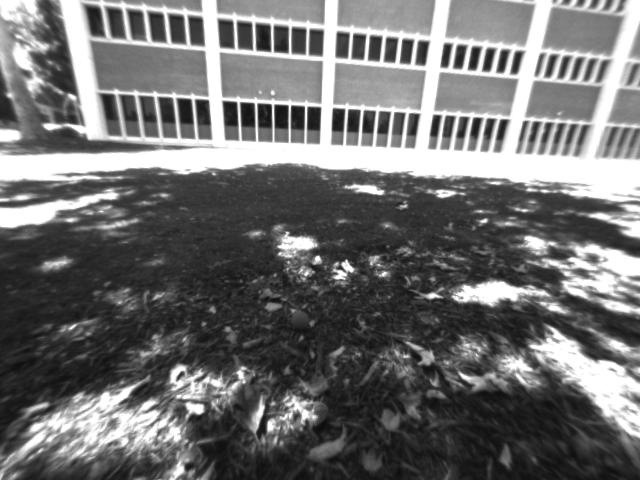dogtoy: (280, 303, 320, 330)
